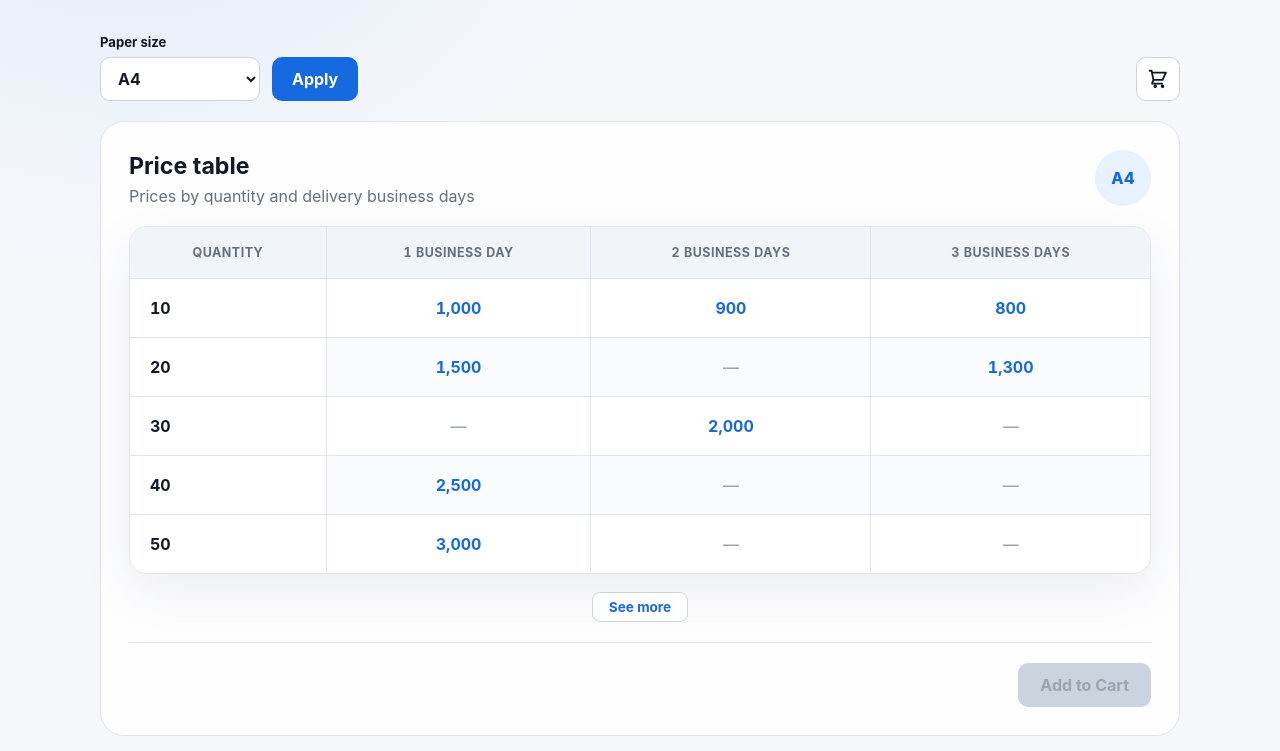
Test: App › preserves expansion for draft and same-size Apply, then resets it for a different size
(page scrolled)
Click the button "See more". click: coordinates (640, 607)
box: [592, 592, 688, 622]
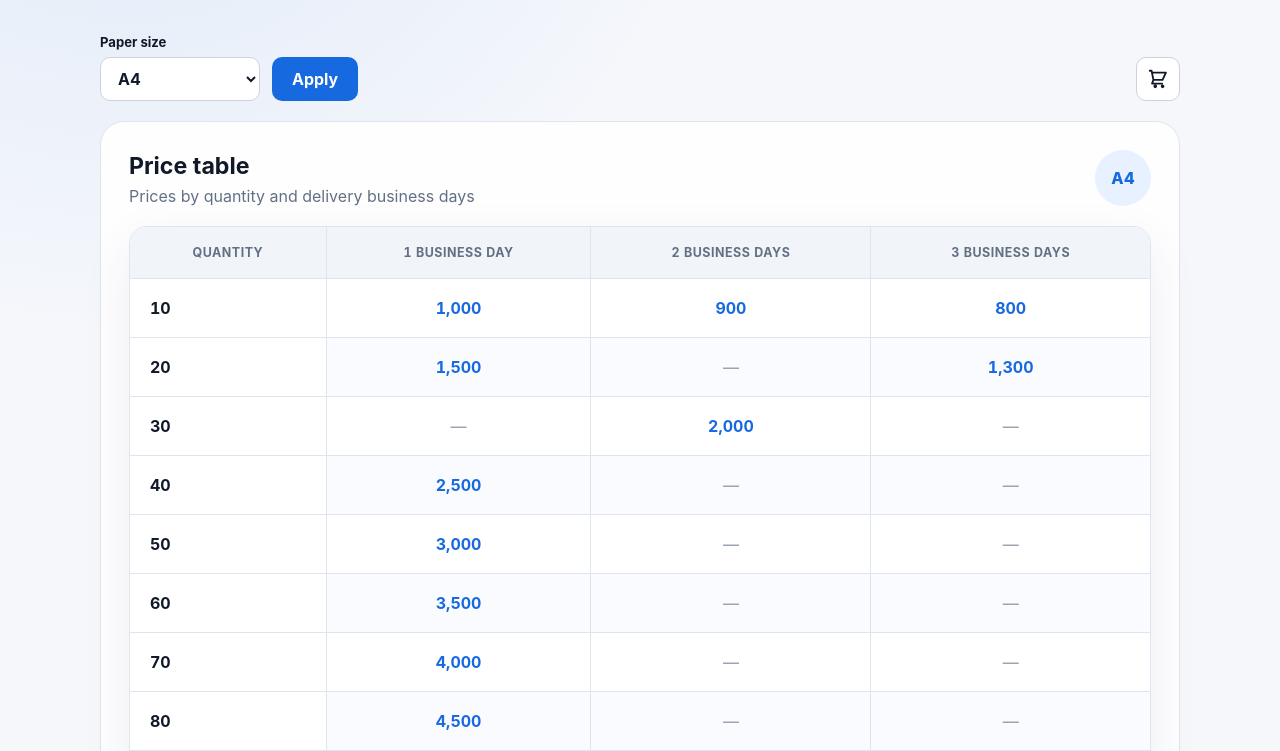
Select "A5" in the dropdown labelled "Paper size". click: coordinates (180, 79)
box: [100, 57, 260, 101]
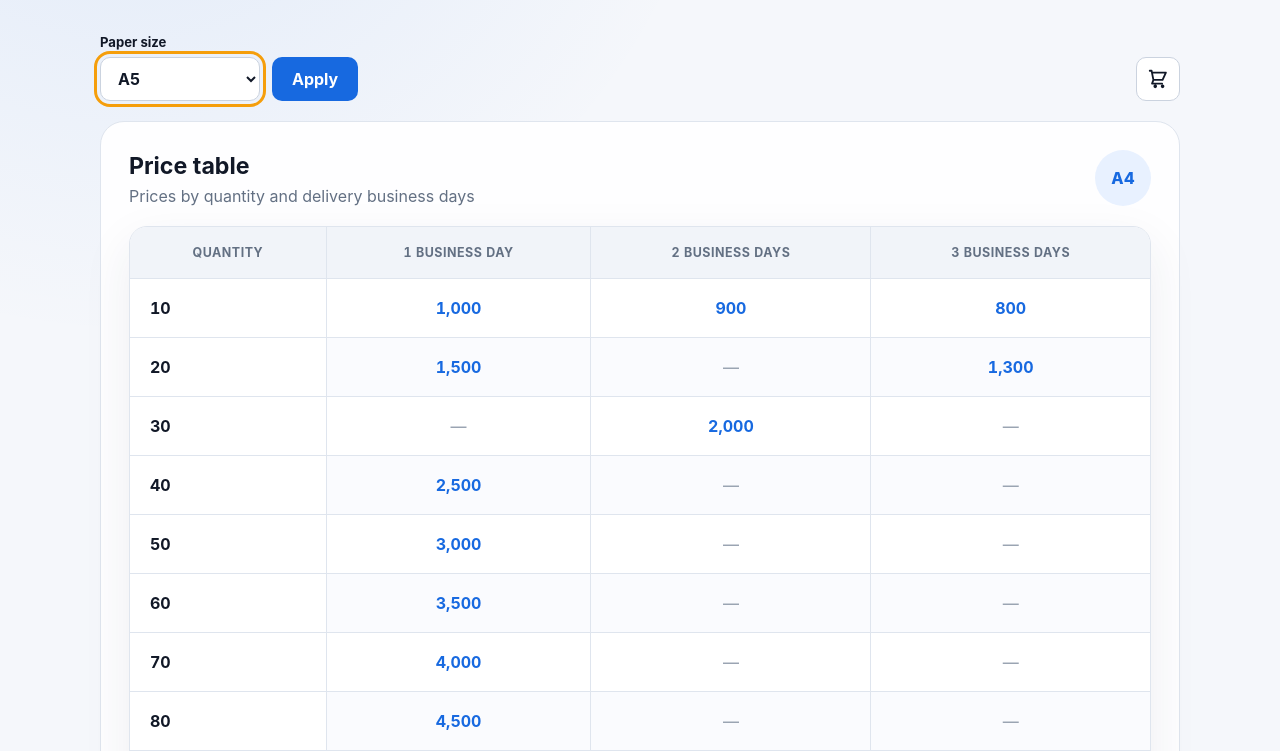
Select "A4" in the dropdown labelled "Paper size". click: coordinates (180, 79)
box: [100, 57, 260, 101]
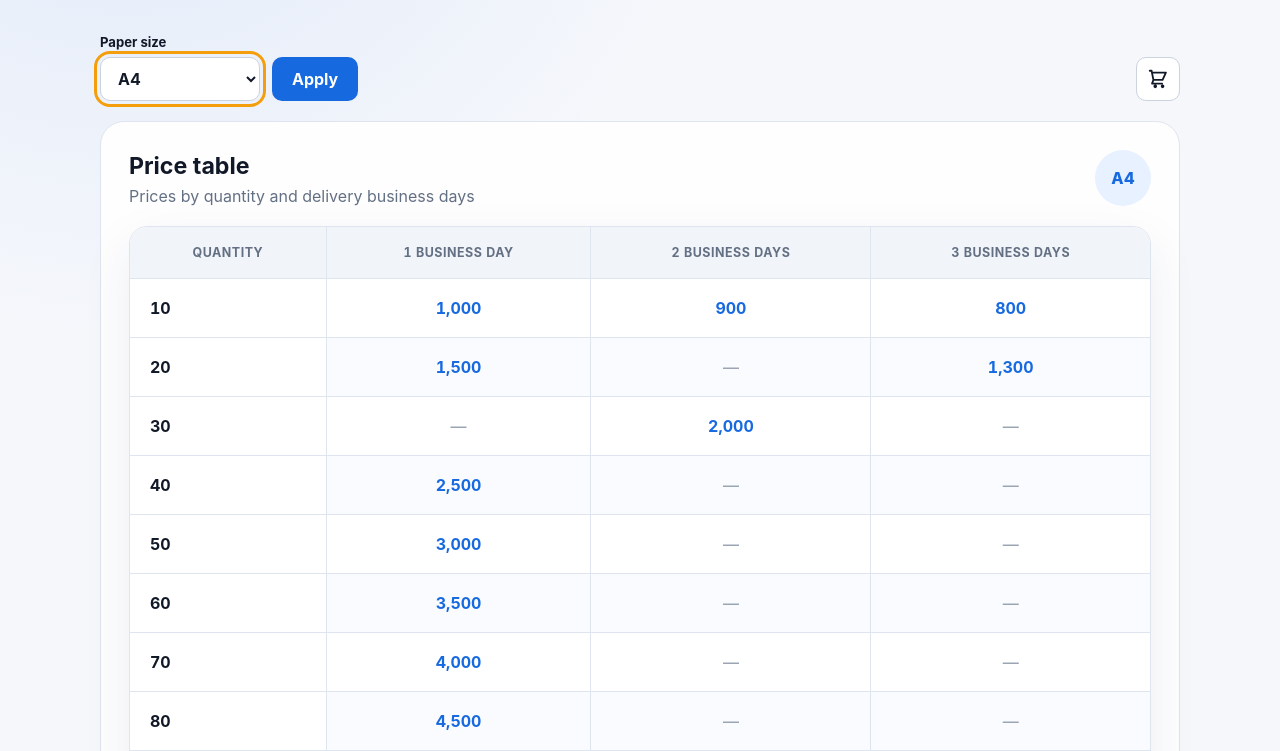
Click the button "Apply". click: coordinates (315, 79)
box: [272, 57, 358, 101]
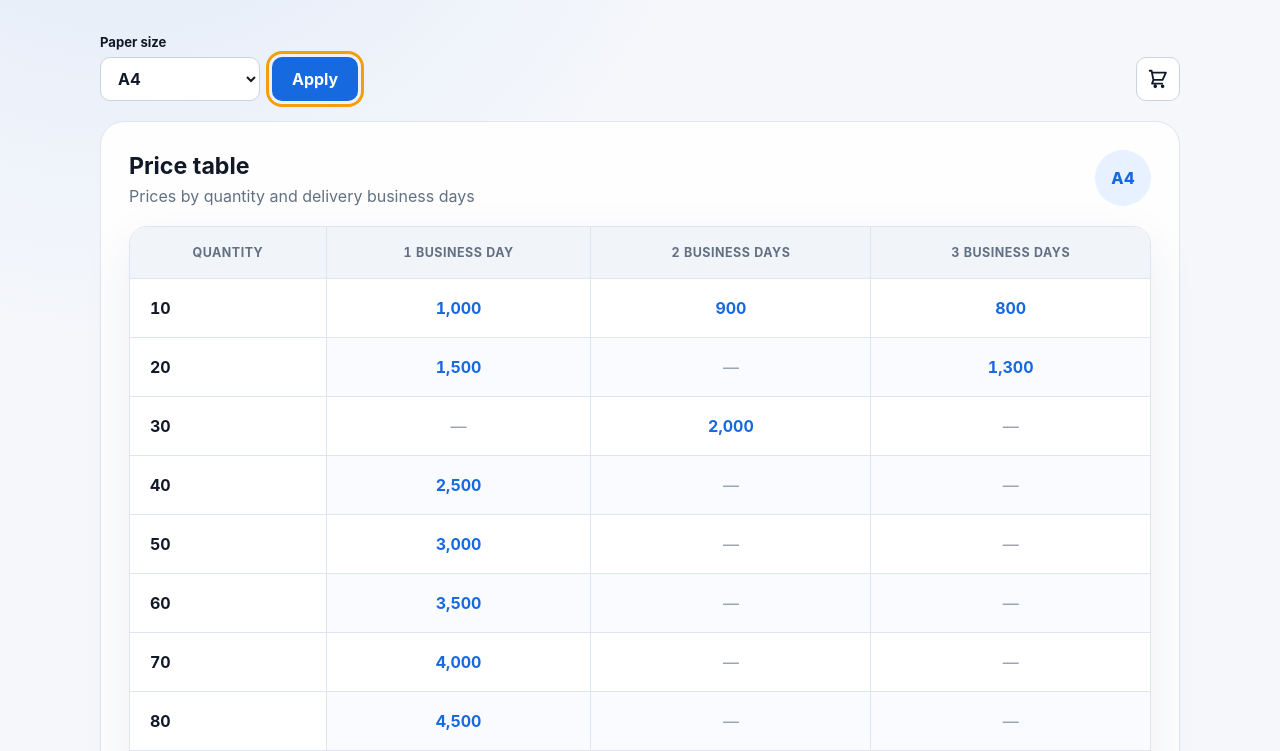
Select "A5" in the dropdown labelled "Paper size". click: coordinates (180, 79)
box: [100, 57, 260, 101]
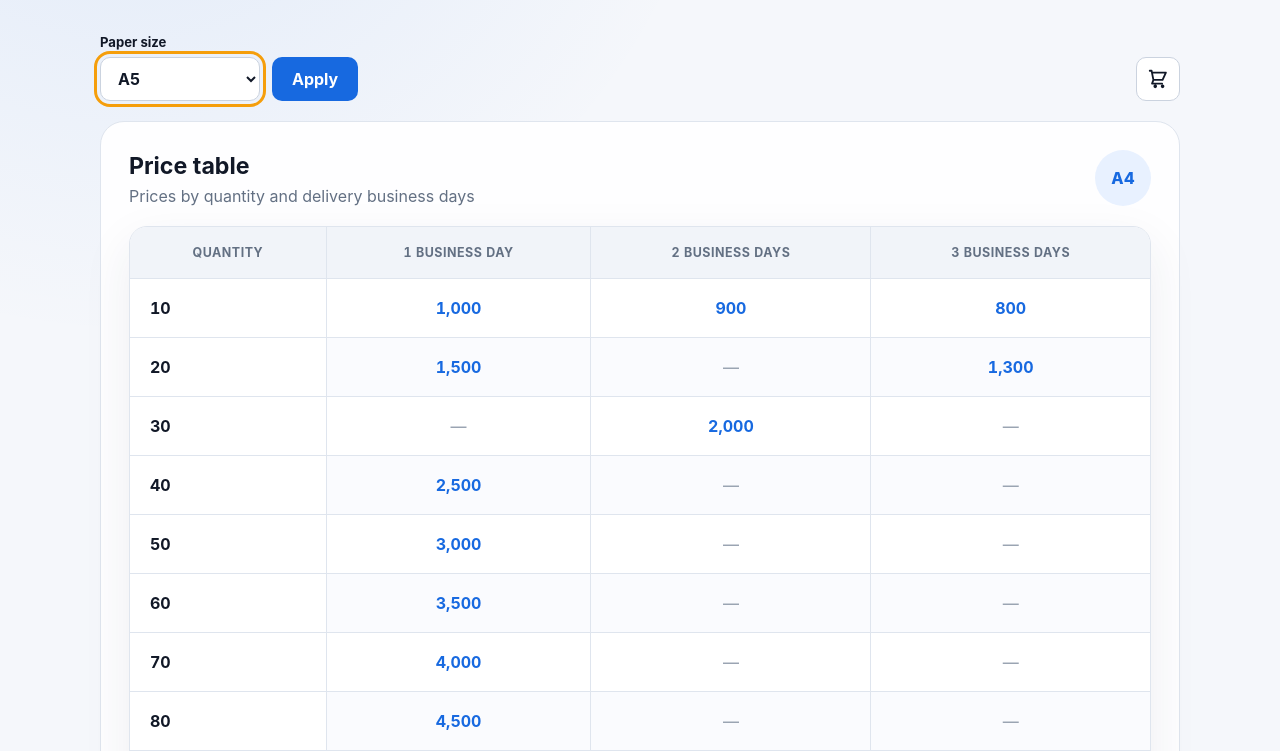
Click the button "Apply". click: coordinates (315, 79)
box: [272, 57, 358, 101]
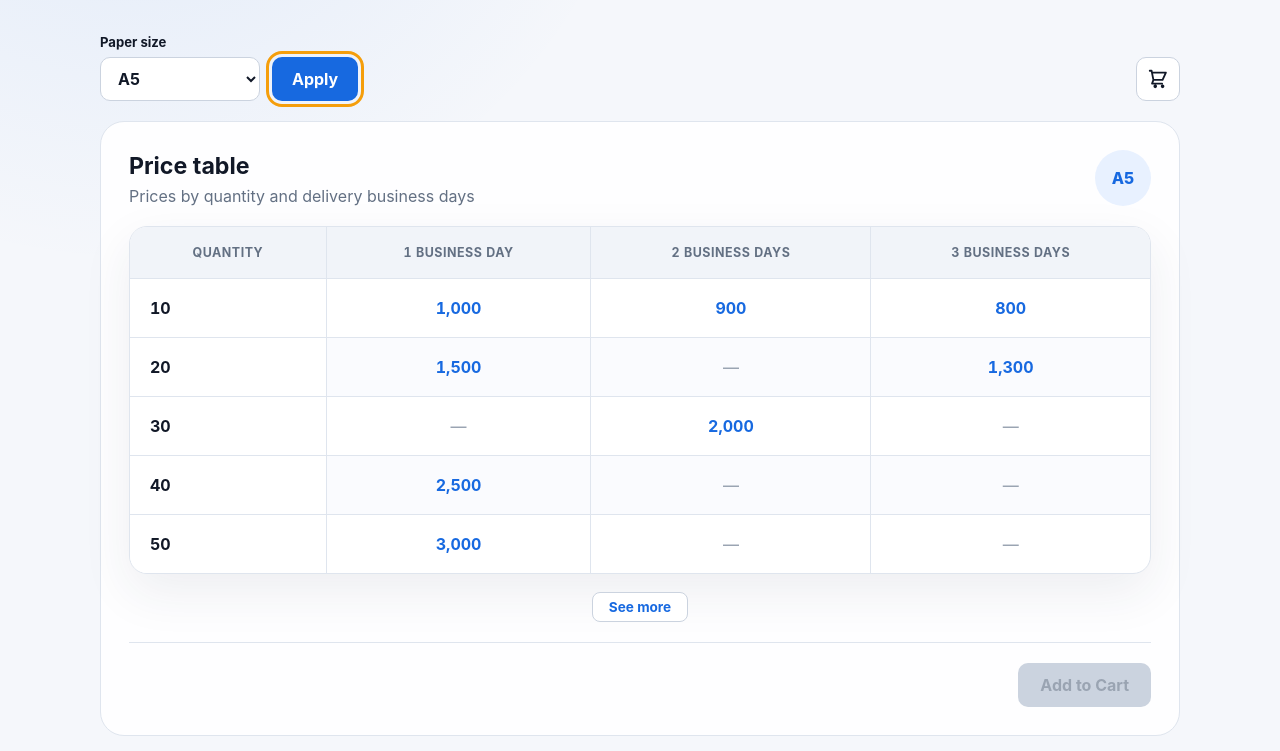
Expected: the button "See more" is shown, [592, 592, 688, 622]
